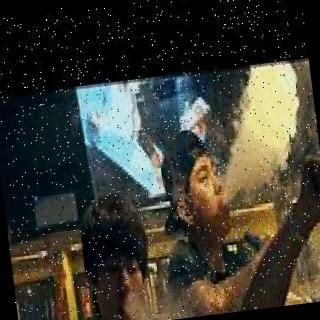smoke: (210, 60, 311, 194), (113, 285, 245, 320), (311, 289, 320, 302)
